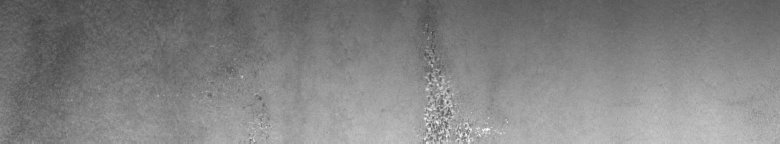hc: (415, 16, 503, 136)
